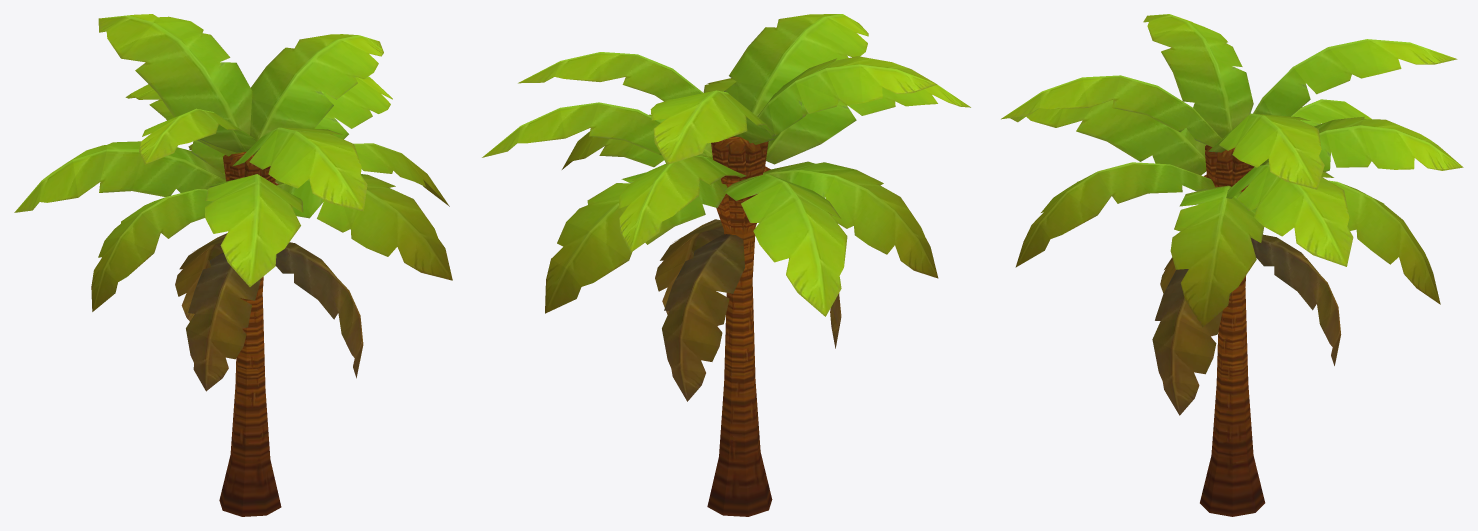
Rendered from coconut.glb.
3 renders of one model, left to right at view 1: azimuth 30°, elevation 25°; view 2: azimuth 150°, elevation 25°; view 3: azimuth 270°, elevation 25°, orthographic. The views are drawn at different scales.
Parts seen in each view (by area): view 1: coconut_tree; view 2: coconut_tree; view 3: coconut_tree.
Part boxes in pixels (x1,y1,x2,y2): coconut_tree: (14,14,452,516); coconut_tree: (482,14,970,516); coconut_tree: (1001,14,1463,516).
Size of the model in its own units: 4.35 by 5.01 by 4.69.
Materials: 1 (1 with a texture image).
